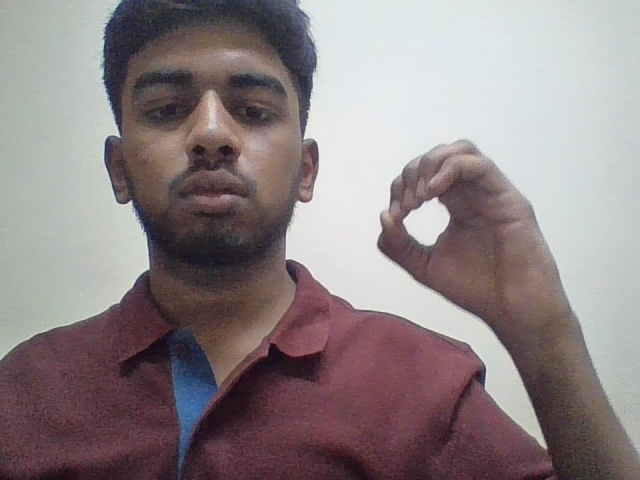O: (357, 134, 592, 339)
